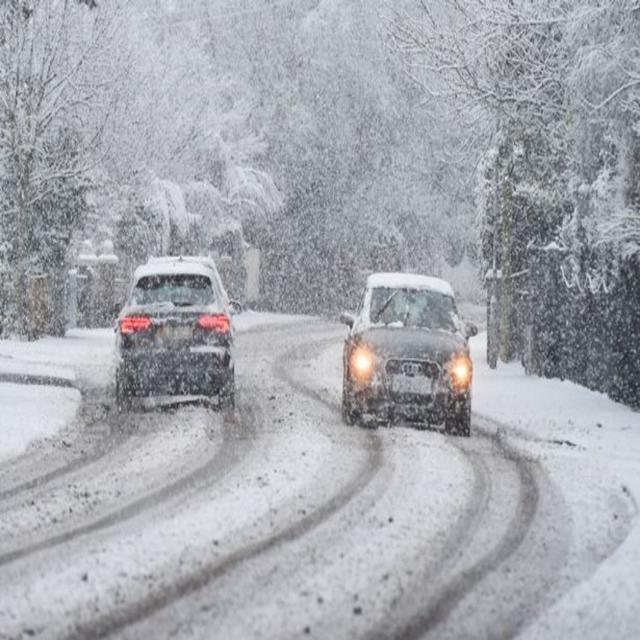car: (338, 271, 476, 440), (114, 256, 238, 419)
